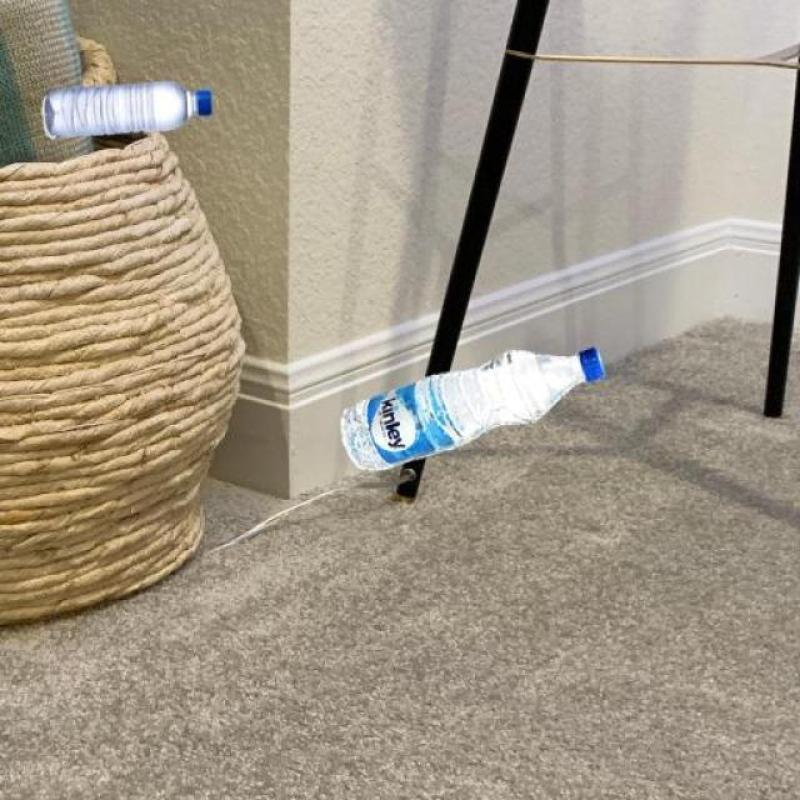botella: (344, 346, 606, 478), (38, 83, 217, 132)
